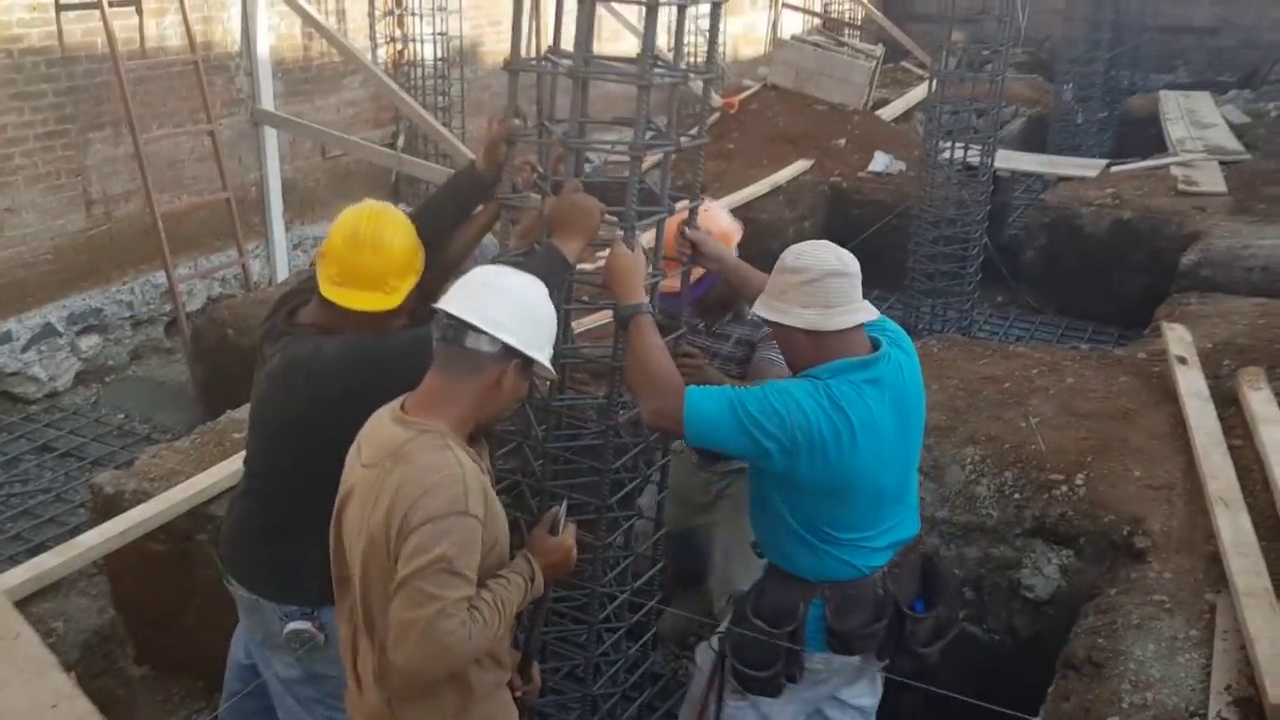helmet: (425, 267, 568, 378), (315, 198, 424, 316), (652, 197, 744, 294)
helmet-off: (747, 240, 881, 378)
helmet-on: (392, 256, 576, 443), (296, 199, 421, 353), (651, 197, 745, 342)
person: (218, 120, 522, 717), (599, 230, 929, 716), (321, 257, 575, 720), (626, 190, 783, 652)
